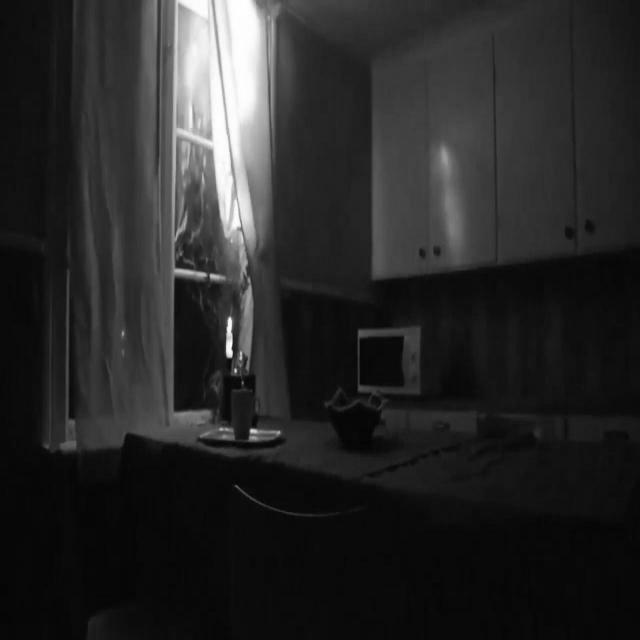smoke: (183, 0, 264, 245), (226, 308, 234, 358)
